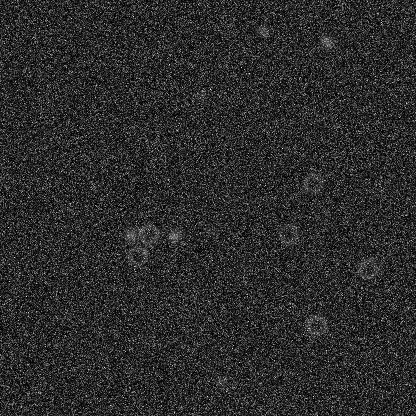Ring: (125, 243, 149, 267), (301, 171, 325, 195), (304, 313, 328, 337), (136, 221, 160, 245), (276, 221, 300, 245), (355, 256, 379, 280)
Spot: (166, 227, 182, 243), (122, 226, 138, 242), (254, 22, 270, 38), (203, 223, 219, 239), (192, 86, 208, 102), (212, 372, 228, 388), (318, 34, 334, 50)
